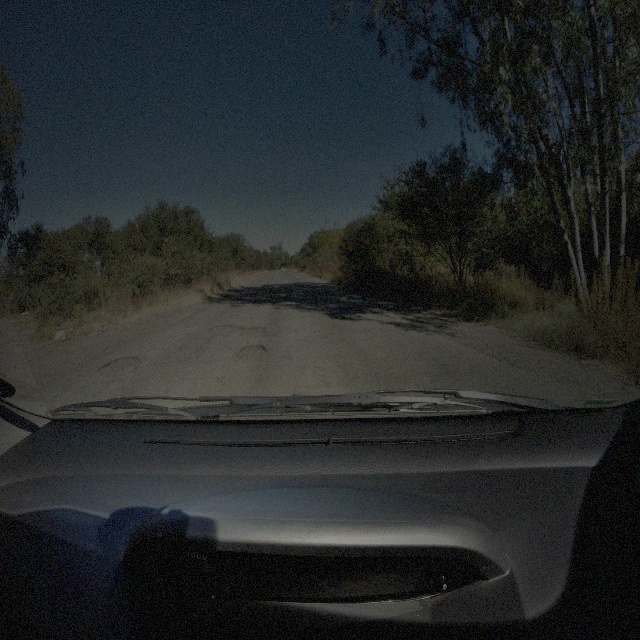pothole: (97, 353, 142, 380), (208, 321, 267, 337), (235, 344, 268, 362)
